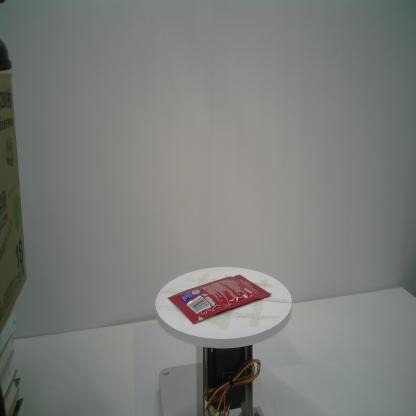Seasoner: (167, 274, 272, 326)
